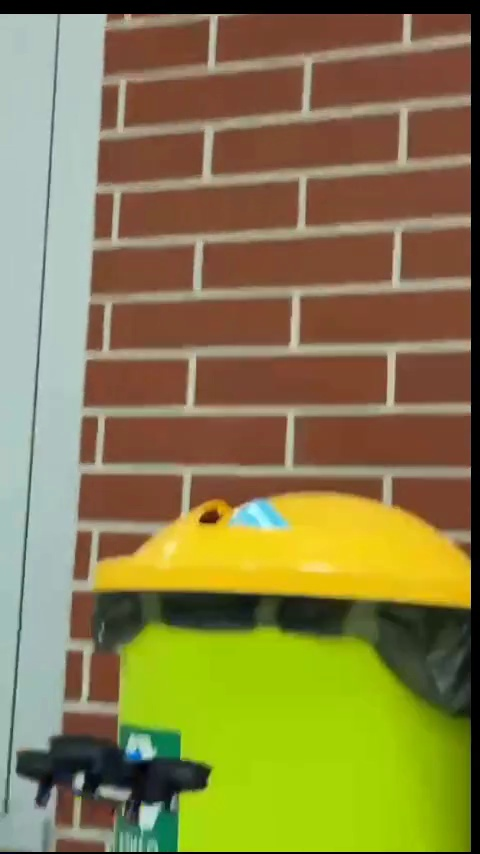drone: (24, 731, 211, 818)
